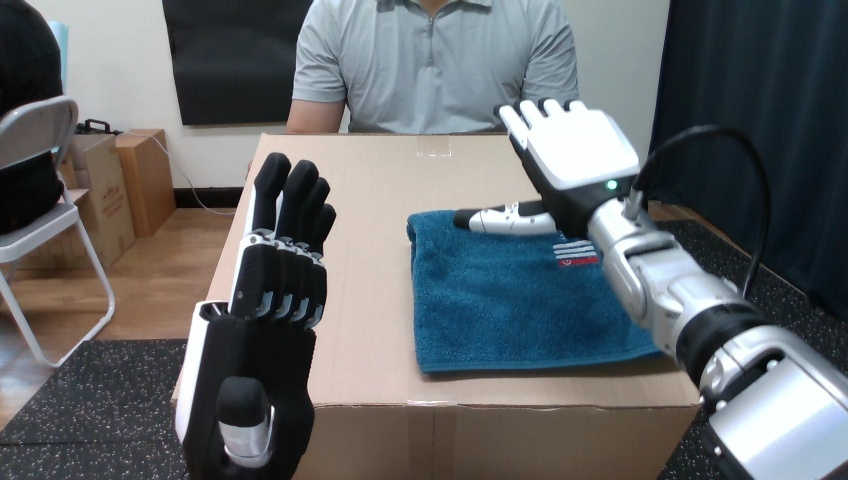left robot hand: (454, 100, 847, 478), (176, 153, 335, 478), (644, 135, 763, 291)
